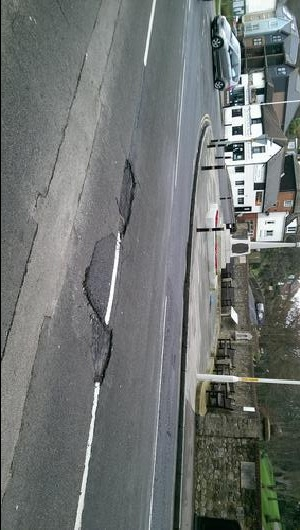pothole: (90, 318, 116, 386), (116, 157, 138, 235)
